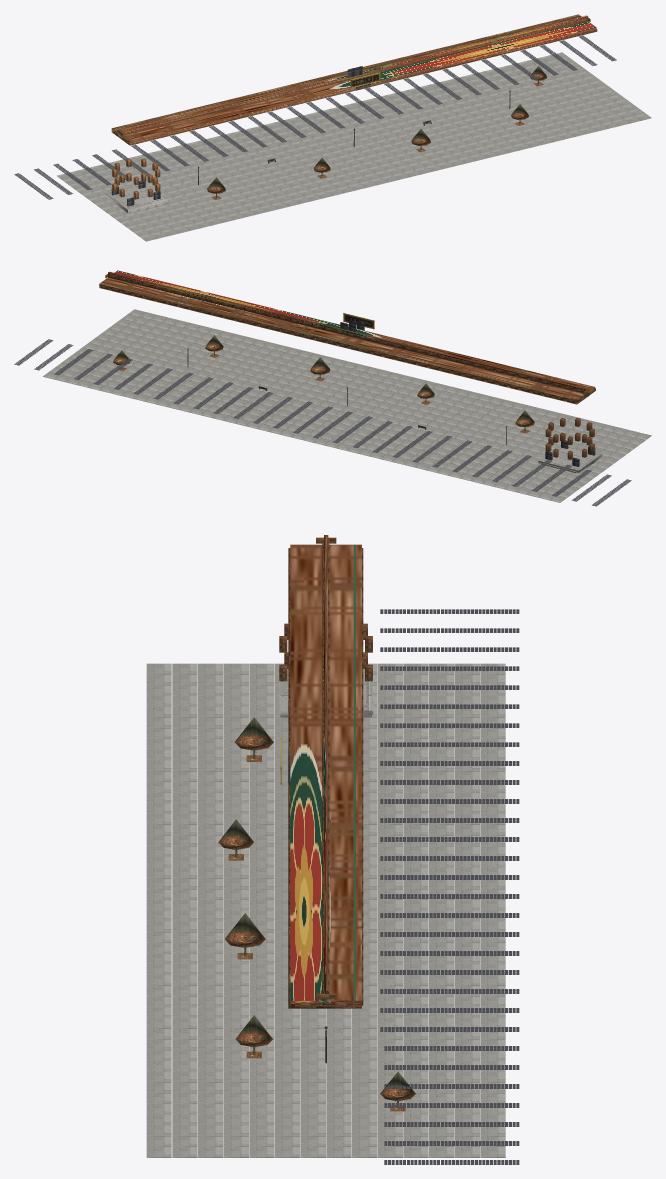
3 renders of one model, top to bottom at view 1: azimuth 30°, elevation 25°; view 2: azimuth 150°, elevation 25°; view 3: azimuth 270°, elevation 25°, orthographic. The views are drawn at different scales.
Parts seen in each view (by area): view 1: 11140_02_04536_043_01__plinth_ground_base, 11140_02_04536_043_02__mass_body_facade, 11140_02_04536_043_03__roof_deck_structure, 11140_02_04536_043_05__window_sash_glass, 11140_02_04536_043_06__landscape_greenery, 11140_02_04536_043_05__door_hardware_iron; view 2: 11140_02_04536_043_01__plinth_ground_base, 11140_02_04536_043_02__mass_body_facade, 11140_02_04536_043_03__roof_deck_structure, 11140_02_04536_043_06__landscape_greenery, 11140_02_04536_043_05__window_sash_glass, 11140_02_04536_043_05__door_hardware_iron; view 3: 11140_02_04536_043_01__plinth_ground_base, 11140_02_04536_043_02__mass_body_facade, 11140_02_04536_043_03__roof_deck_structure, 11140_02_04536_043_06__landscape_greenery, 11140_02_04536_043_05__window_sash_glass.
Part boxes in pixels (bbox=[...]): 11140_02_04536_043_01__plinth_ground_base: bbox=[56, 52, 651, 241]; 11140_02_04536_043_02__mass_body_facade: bbox=[111, 14, 597, 145]; 11140_02_04536_043_03__roof_deck_structure: bbox=[14, 35, 616, 199]; 11140_02_04536_043_05__window_sash_glass: bbox=[112, 22, 577, 199]; 11140_02_04536_043_06__landscape_greenery: bbox=[207, 66, 546, 199]; 11140_02_04536_043_05__door_hardware_iron: bbox=[111, 66, 510, 206]; 11140_02_04536_043_01__plinth_ground_base: bbox=[43, 309, 651, 502]; 11140_02_04536_043_02__mass_body_facade: bbox=[99, 270, 595, 404]; 11140_02_04536_043_03__roof_deck_structure: bbox=[14, 339, 631, 506]; 11140_02_04536_043_06__landscape_greenery: bbox=[113, 335, 534, 433]; 11140_02_04536_043_05__window_sash_glass: bbox=[545, 418, 594, 459]; 11140_02_04536_043_05__door_hardware_iron: bbox=[187, 320, 595, 466]; 11140_02_04536_043_01__plinth_ground_base: bbox=[146, 663, 505, 1157]; 11140_02_04536_043_02__mass_body_facade: bbox=[288, 535, 363, 1008]; 11140_02_04536_043_03__roof_deck_structure: bbox=[380, 609, 519, 1164]; 11140_02_04536_043_06__landscape_greenery: bbox=[218, 717, 415, 1111]; 11140_02_04536_043_05__window_sash_glass: bbox=[279, 556, 372, 984].
Size of the model in its own units: 146 by 19.6 by 41.48.
Materials: 7 (7 with a texture image).
